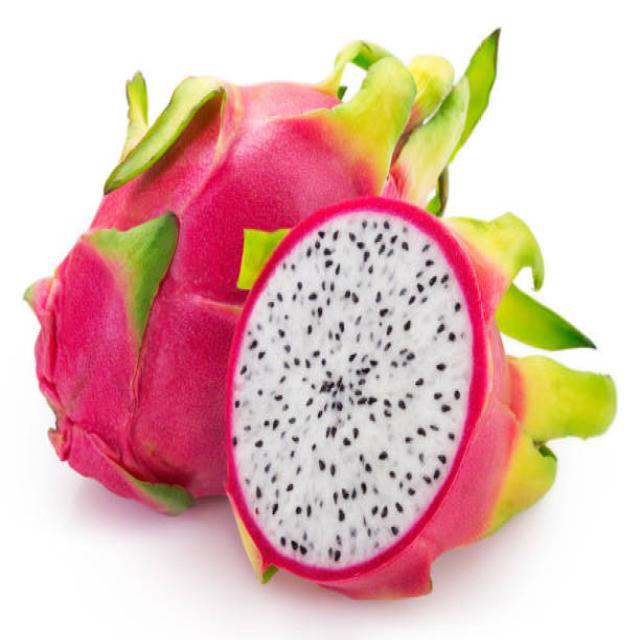dragon-fruit: (34, 78, 401, 499), (221, 194, 512, 591)
